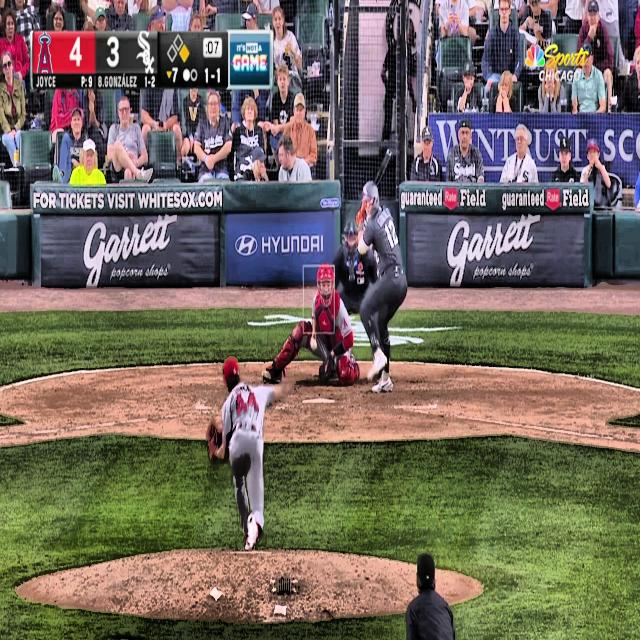baseball: (309, 337, 318, 353)
